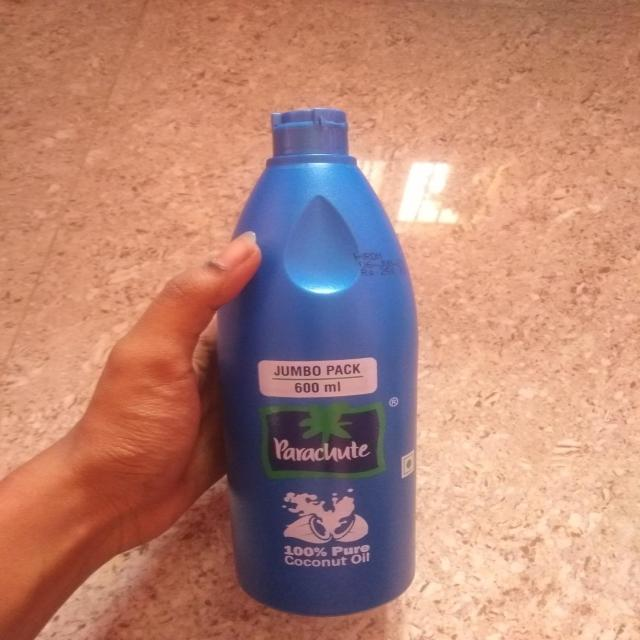parachute_oil: (196, 101, 448, 617)
